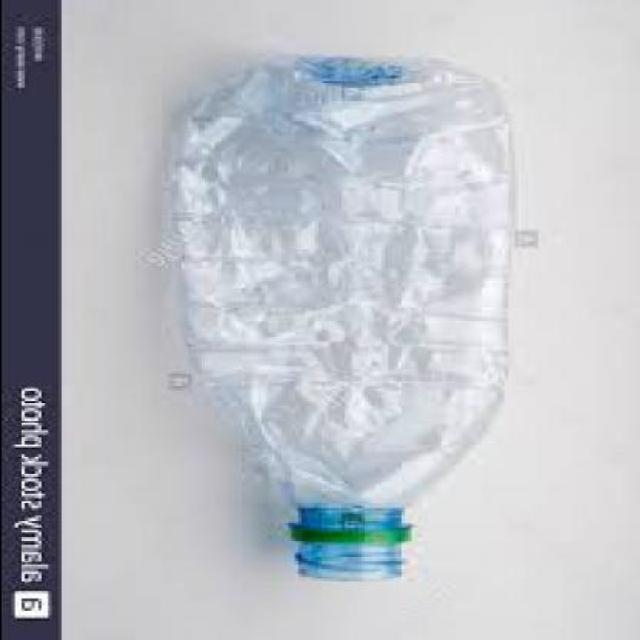PLASTIC: (166, 59, 520, 582)
